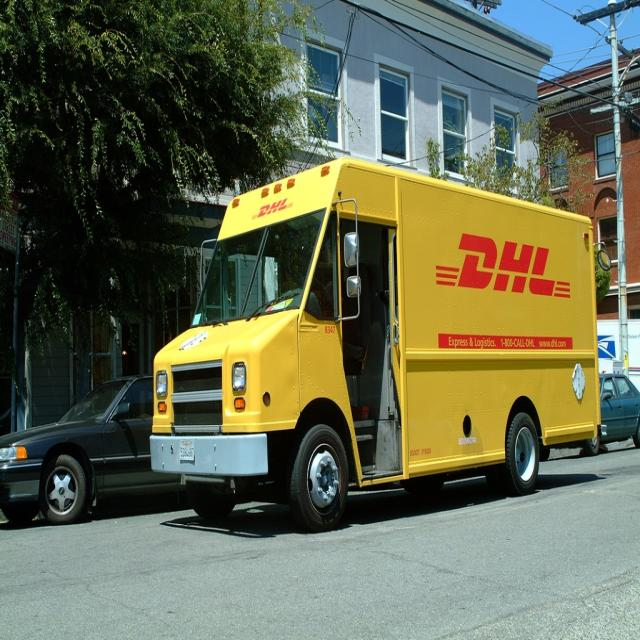dhl: (424, 222, 580, 306), (246, 191, 302, 229)
